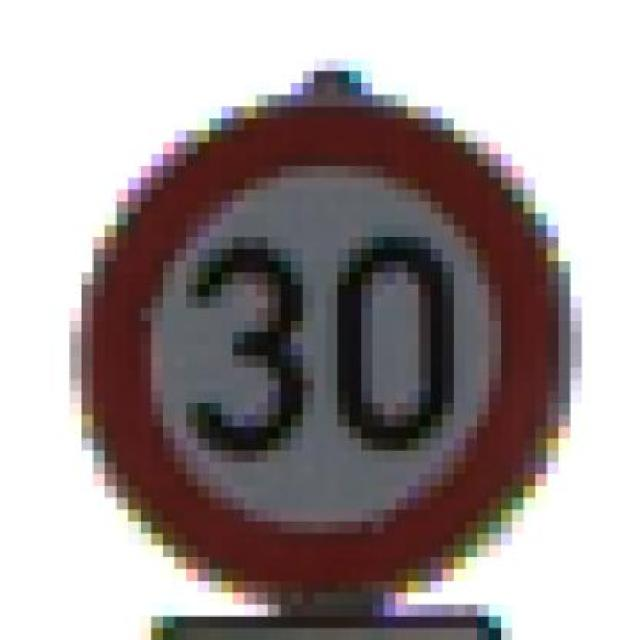Speed Limit 30 KMPh: (35, 70, 593, 604)
